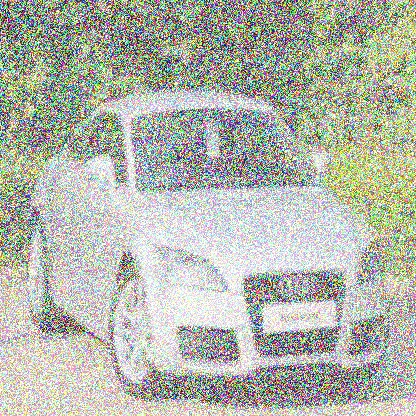Vehicle: (25, 88, 393, 404)
